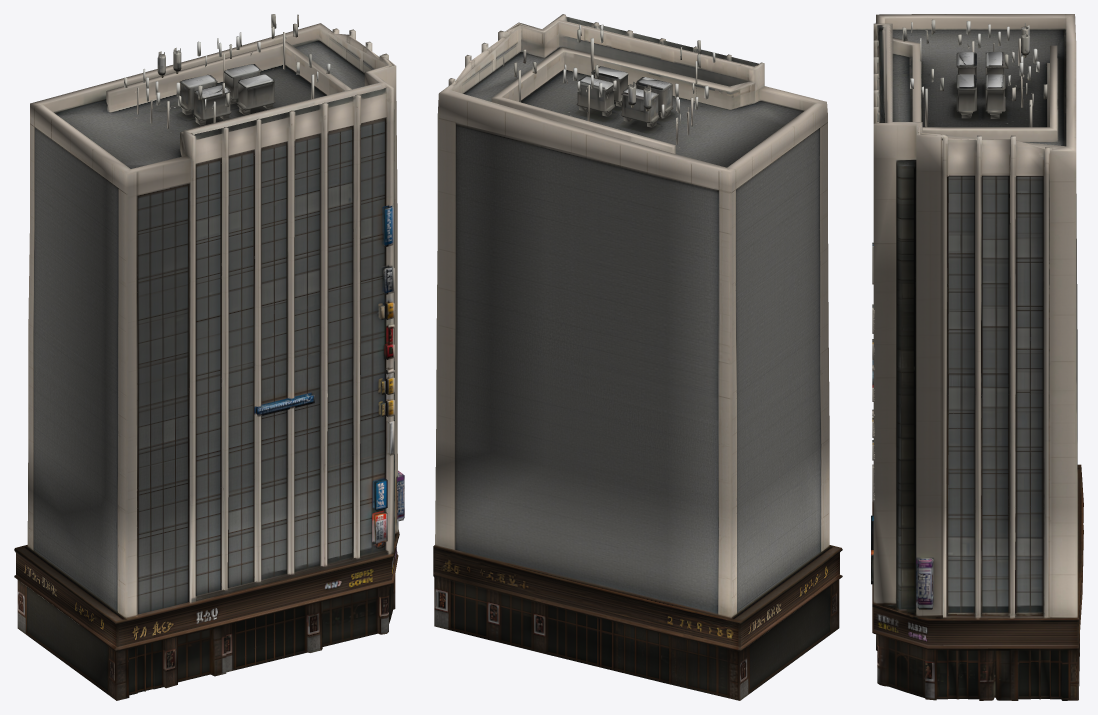
The model's file is high-rise_building_3d_model.fbx.
3 views of the same model, side by side, from view 1: azimuth 30°, elevation 25°; view 2: azimuth 150°, elevation 25°; view 3: azimuth 270°, elevation 25° (orthographic). The views are drawn at different scales.
Visible parts, largest first — view 1: tripo_node_1736bcee; view 2: tripo_node_1736bcee; view 3: tripo_node_1736bcee.
Boxes of the visible parts, box(x1,y1,x2,y2) form: tripo_node_1736bcee: box(14, 14, 404, 700); tripo_node_1736bcee: box(433, 14, 842, 700); tripo_node_1736bcee: box(871, 14, 1083, 700).
Size of the model in its own units: 0.5762 by 0.998 by 0.3301.
